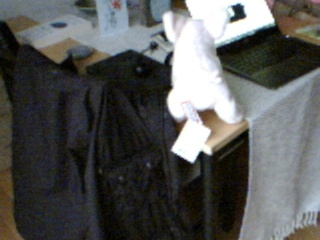piggy: (159, 8, 246, 126)
